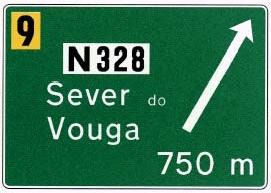Pre-aviso grafico: (1, 0, 271, 193)
